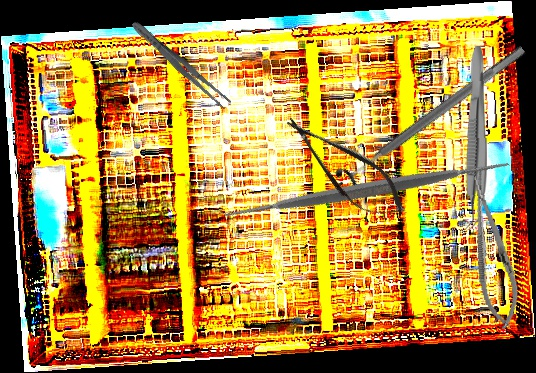Dressing Forceps: (128, 17, 233, 112)
Fixation Ring: (333, 35, 534, 200)
Micro Scissor: (272, 102, 417, 234)
Needle Holder: (459, 172, 526, 332)
Spatula Surgical: (208, 31, 524, 347)
Tissue Forceps: (460, 46, 489, 230)
